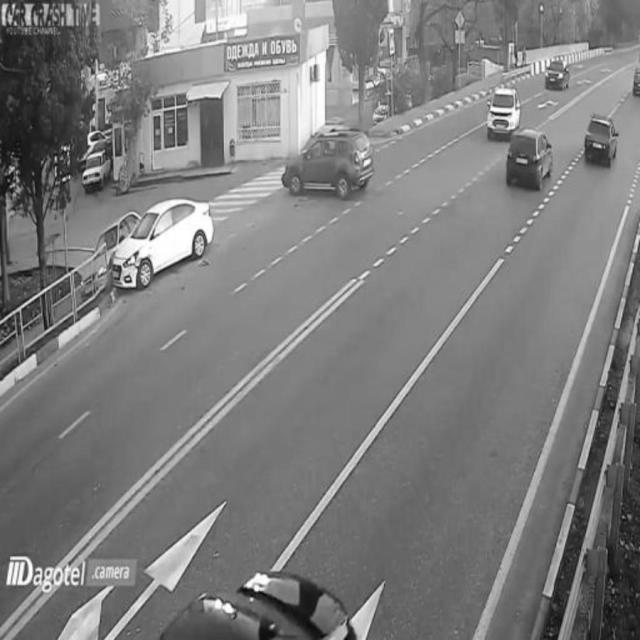accident: (94, 194, 207, 282)
vehicle: (280, 127, 373, 200), (502, 125, 556, 193), (583, 107, 620, 163), (484, 84, 520, 139), (79, 147, 113, 189), (542, 55, 570, 95)
